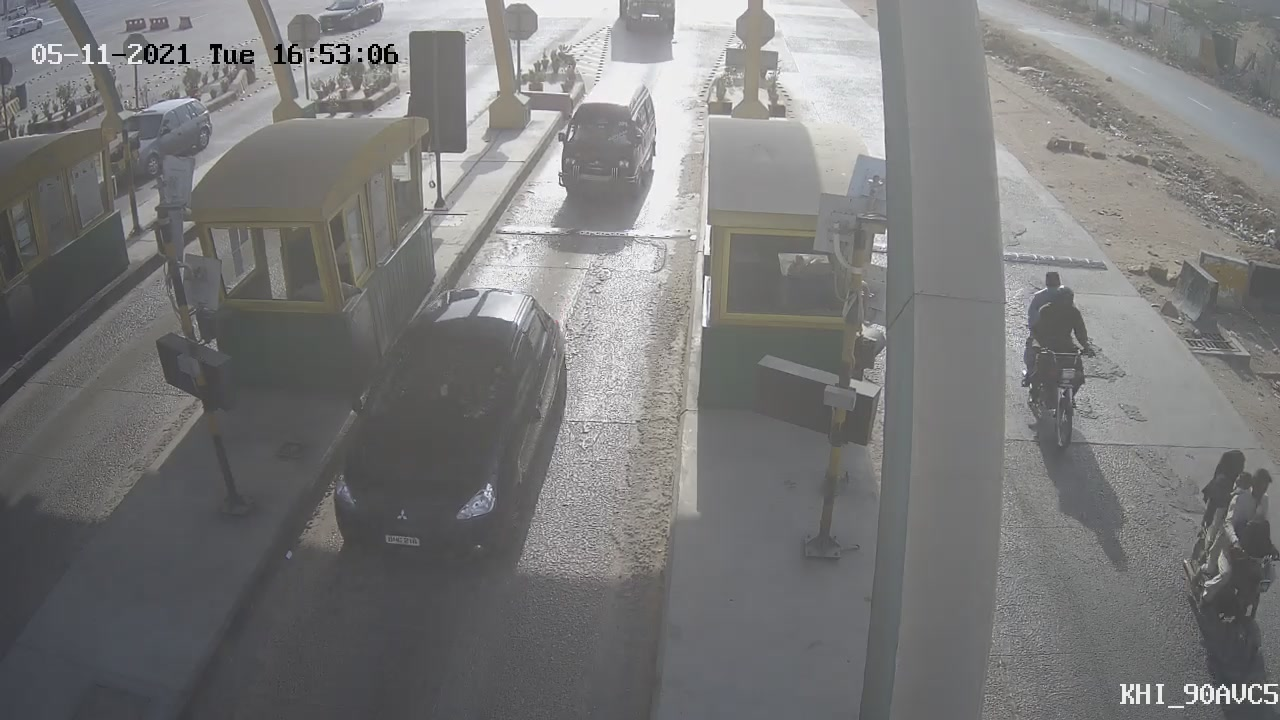F1: (312, 269, 590, 594), (540, 65, 668, 218)
